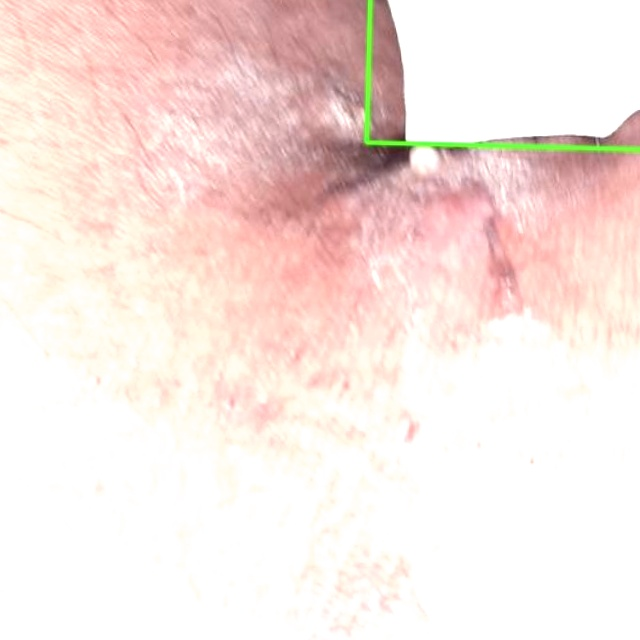Contact Dermatitis: (366, 0, 639, 149)
